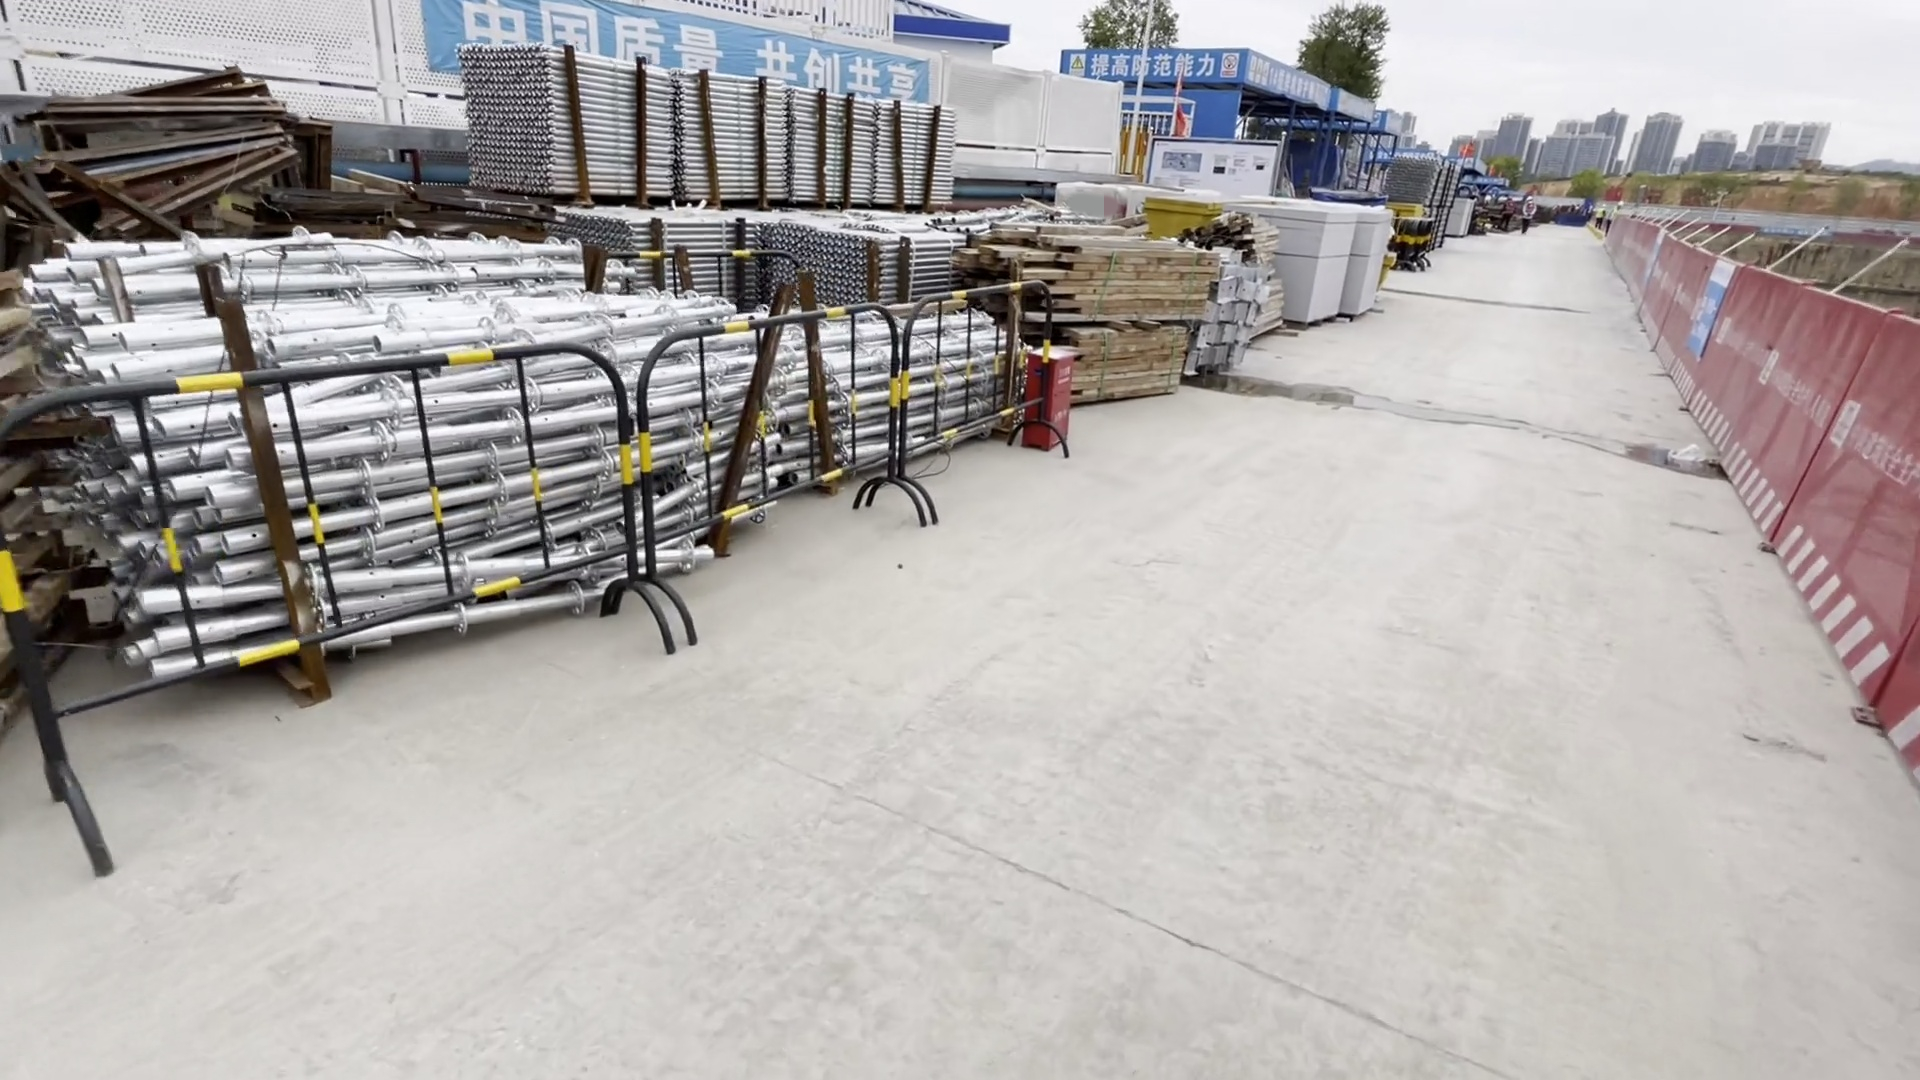brick: (1247, 206, 1408, 316), (1437, 196, 1482, 237)
fence: (1607, 204, 1920, 767)
scaffold: (450, 46, 955, 214), (96, 264, 646, 357), (588, 200, 967, 301)
slogan: (411, 1, 936, 113), (1044, 40, 1234, 94)
wood: (997, 231, 1196, 404)
